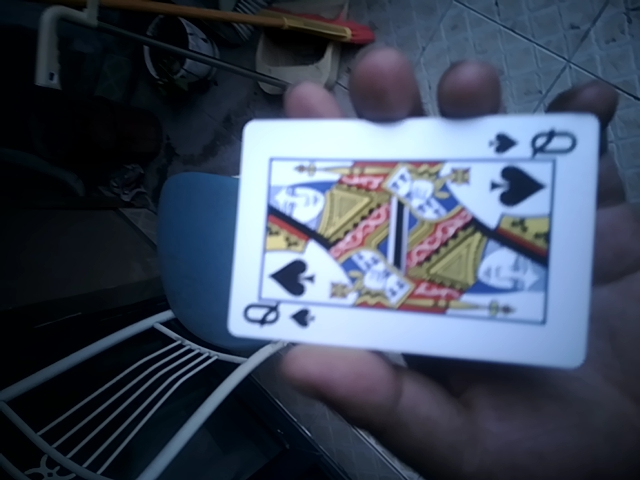ht q: (224, 108, 603, 374)
